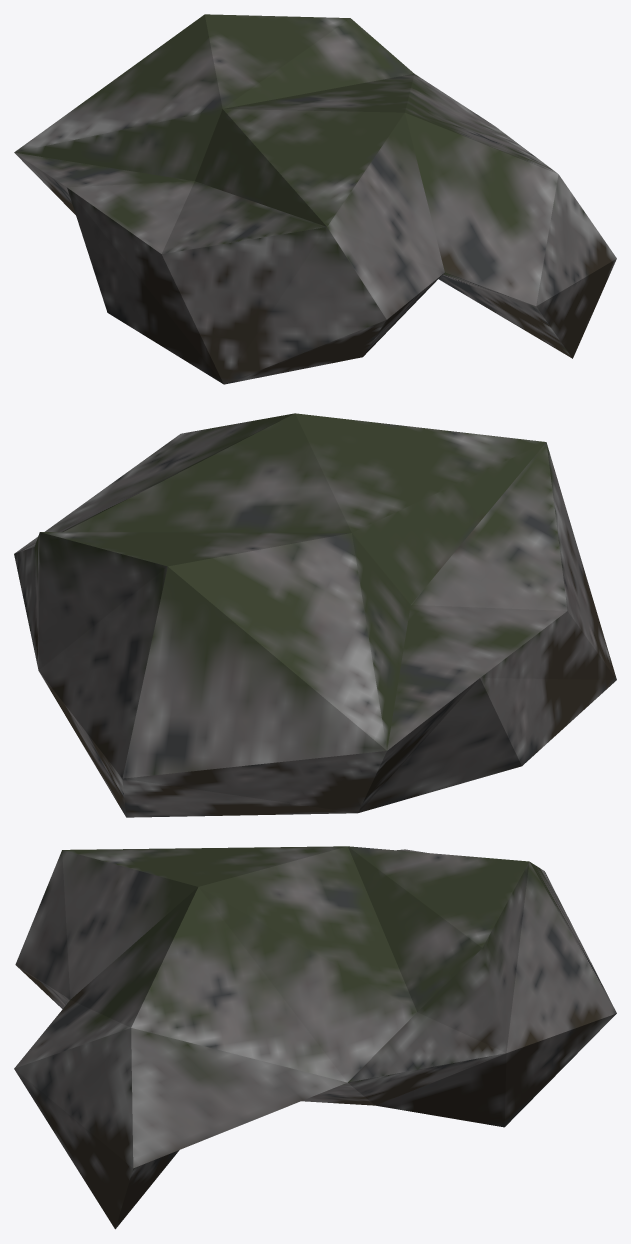
Rendered from Rock_01.fbx.
3 views of the same model, one above another, from view 1: azimuth 30°, elevation 25°; view 2: azimuth 150°, elevation 25°; view 3: azimuth 270°, elevation 25° (orthographic). The views are drawn at different scales.
Visible parts, largest first — view 1: Rock_01; view 2: Rock_01; view 3: Rock_01.
Boxes of the visible parts, x1,y1,x2,y2 form: Rock_01: (14,14,616,384); Rock_01: (14,413,616,817); Rock_01: (14,846,616,1229).
Bounding box in the file's own units: 225 × 126 × 252.
Materials: 1 (1 with a texture image).
